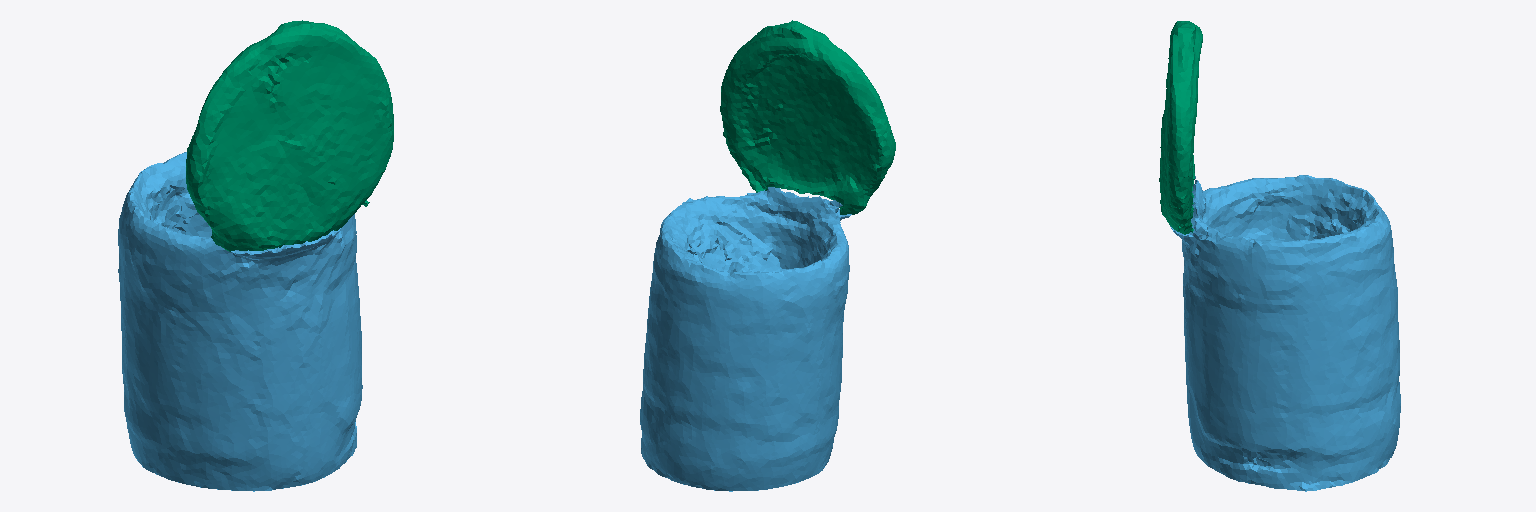
The robot description file, URDF, robot "object":
<?xml version='1.0' encoding='utf-8'?>
<robot name="object">
  <link name="base">
    <inertial>
      <origin xyz="0 0 0" rpy="0 0 0" />
      <mass value="0.0" />
      <inertia ixx="0" ixy="0" ixz="0" iyy="0" iyz="0" izz="0" />
    </inertial>
  </link>
  <link name="link_1">
    <visual>
      <origin xyz="0 0 0" rpy="0 0 0" />
      <geometry>
        <mesh filename="meshes/link_1.stl" />
      </geometry>
    </visual>
    <collision>
      <origin xyz="0 0 0" rpy="0 0 0" />
      <geometry>
        <mesh filename="meshes/link_1.stl" />
      </geometry>
    </collision>
    <inertial>
      <origin xyz="-0.00645057359 0.0103344286 0.136476689" rpy="0 0 0" />
      <mass value="27.5595961" />
      <inertia ixx="0.179996241" ixy="0.00107246947" ixz="-0.0212180309" iyy="0.186667239" iyz="-0.0100819853" izz="0.386559975" />
    </inertial>
  </link>
  <link name="link_2">
    <visual>
      <origin xyz="0.0327555514 0.159762832 -0.400378812" rpy="0 0 0" />
      <geometry>
        <mesh filename="meshes/link_2.stl" />
      </geometry>
    </visual>
    <collision>
      <origin xyz="0.0327555514 0.159762832 -0.400378812" rpy="0 0 0" />
      <geometry>
        <mesh filename="meshes/link_2.stl" />
      </geometry>
    </collision>
    <inertial>
      <origin xyz="0.00448704453 -0.00811564359 0.142906082" rpy="0 0 0" />
      <mass value="3.02526157" />
      <inertia ixx="0.0196862281" ixy="0.000185291671" ixz="-0.000726895738" iyy="0.0379048555" iyz="-0.00111131359" izz="0.0191874988" />
    </inertial>
  </link>
  <joint name="joint_1_2" type="revolute">
    <parent link="link_1" />
    <child link="link_2" />
    <origin xyz="-0.0327555514 -0.159762832 0.400378812" rpy="0 0 0" />
    <axis xyz="0.99970445 0.0112607711 0.0215454848" />
    <limit lower="-1.57" upper="1.57" effort="10.0" velocity="1.0" />
  </joint>
  <joint name="base_to_1" type="fixed">
    <parent link="base" />
    <child link="link_1" />
    <origin xyz="0 0 0" rpy="0 0 0" />
  </joint>
</robot>

--- What the picture shows (computed from the rendered views, not written in the file) ---
3 views of the same robot in one strip: view 1: azimuth 30°, elevation 25°; view 2: azimuth 150°, elevation 25°; view 3: azimuth 270°, elevation 25° (orthographic).
Robot: object — 3 links, 2 joints (1 revolute, 1 fixed); root link base; default pose: every joint at zero.
Visible links, largest first — view 1: link_1, link_2; view 2: link_1, link_2; view 3: link_1, link_2.
Link boxes in pixels (box(x1,y1,x2,y2)): link_1: box(118, 152, 362, 491); link_2: box(186, 20, 393, 251); link_1: box(640, 187, 851, 491); link_2: box(720, 20, 895, 214); link_1: box(1170, 175, 1400, 491); link_2: box(1159, 21, 1202, 234).
Bounding box of the posed robot: 0.3561 × 0.3758 × 0.7135 m (x, y, z).
Meshes: 2 distinct files referenced, 2 mesh visuals loaded (2 binary STL).
